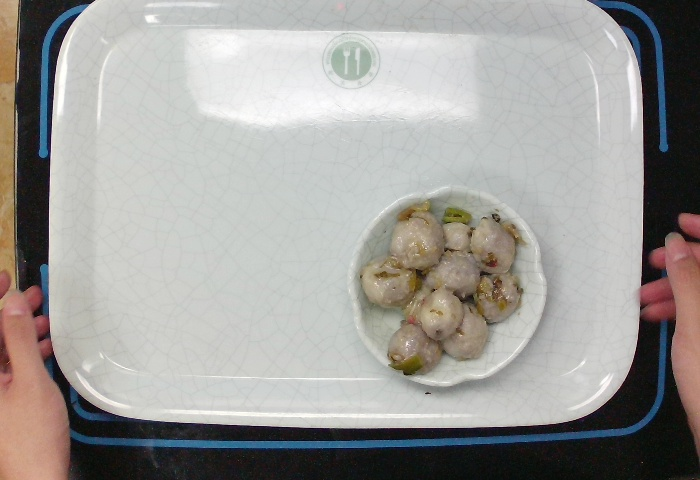JYsf-Ao_Yuan_Wan: (347, 182, 553, 394)
